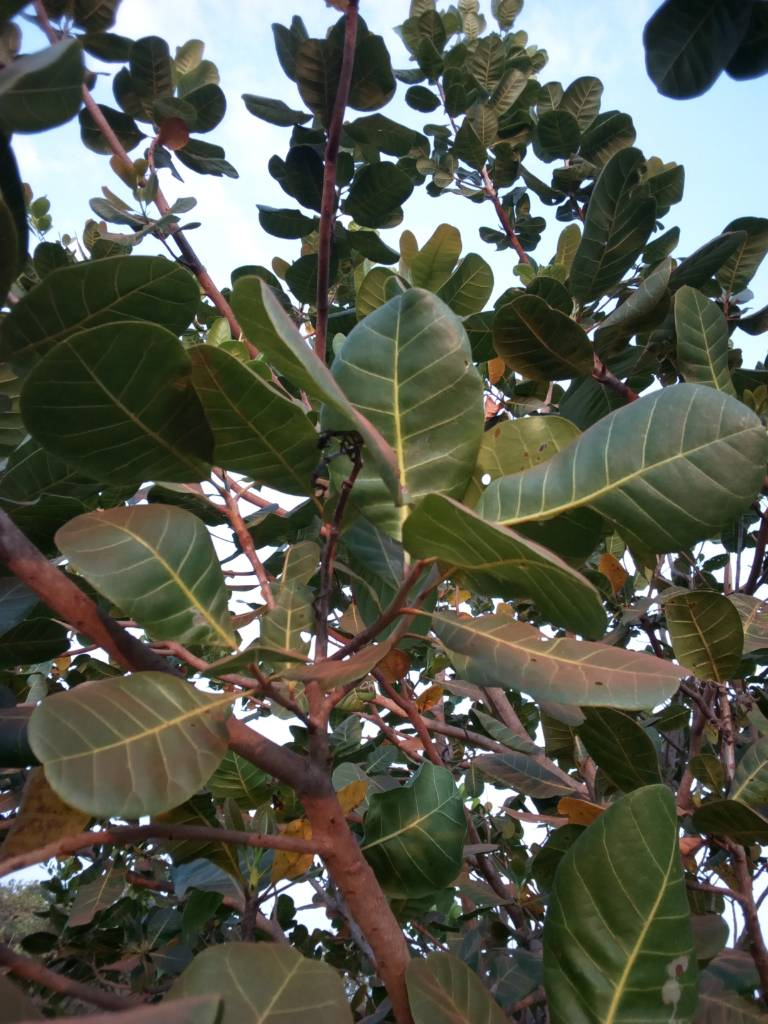Dessèchement des bourgeons: (304, 432, 369, 578)
